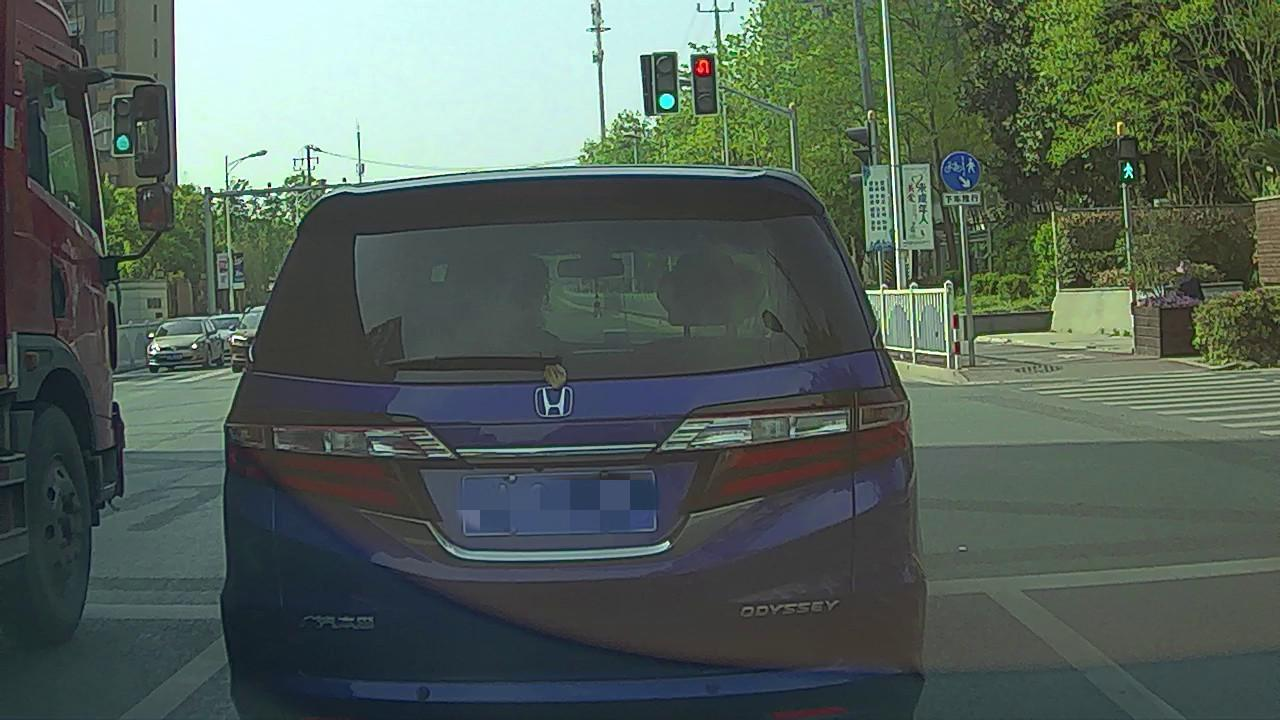traffic_light: (654, 52, 678, 115), (693, 53, 716, 112)
